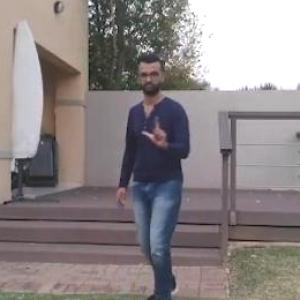land_hand: (132, 108, 170, 153)
